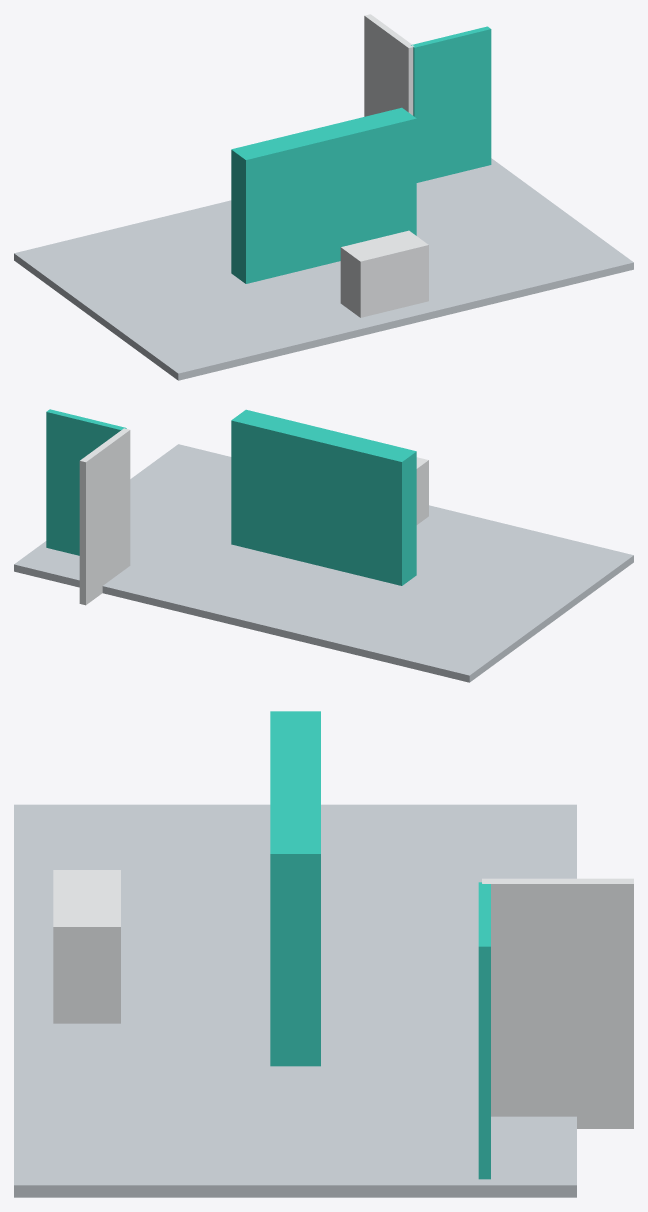
3 views of the same model, one above another, from view 1: azimuth 30°, elevation 25°; view 2: azimuth 150°, elevation 25°; view 3: azimuth 270°, elevation 25° (orthographic). The views are drawn at different scales.
Parts seen in each view (by area): view 1: Exhibition Booth Concept; view 2: Exhibition Booth Concept; view 3: Exhibition Booth Concept.
Part boxes in pixels (x1,y1,x2,y2): Exhibition Booth Concept: (14, 14, 633, 380); Exhibition Booth Concept: (14, 409, 633, 682); Exhibition Booth Concept: (14, 711, 633, 1197).
Size of the model in its own units: 8 by 2.4 by 5.51.
